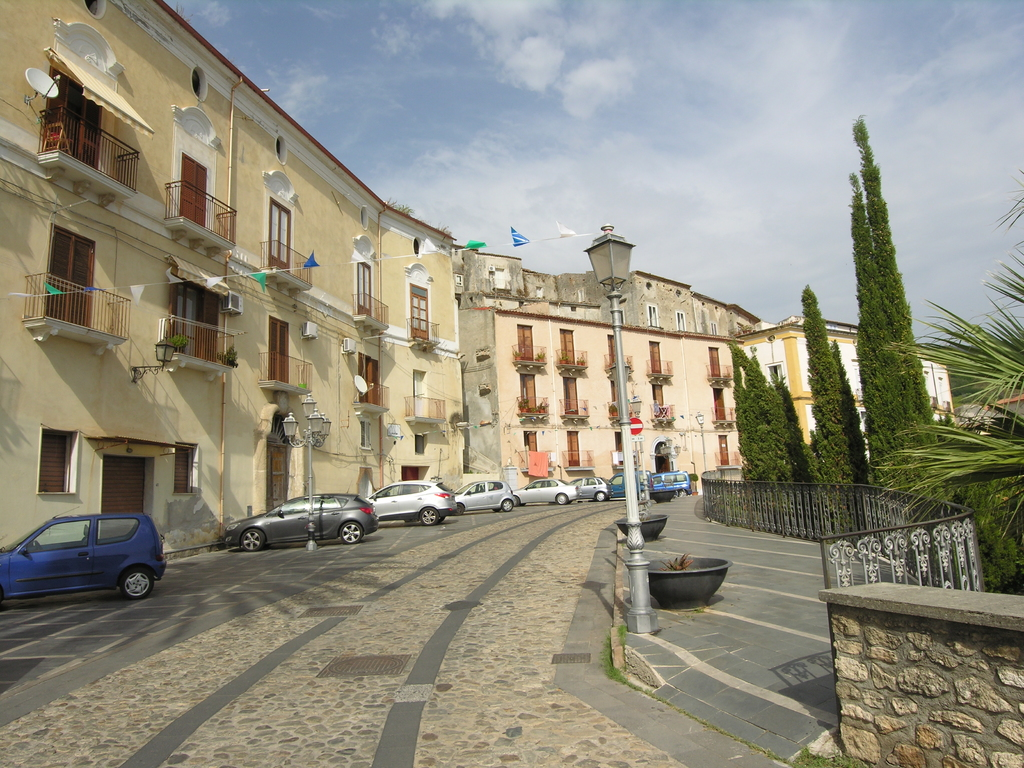mobil: (1, 506, 175, 599), (212, 482, 381, 551), (366, 478, 458, 524), (459, 478, 522, 518), (509, 477, 577, 506), (574, 472, 613, 502)
